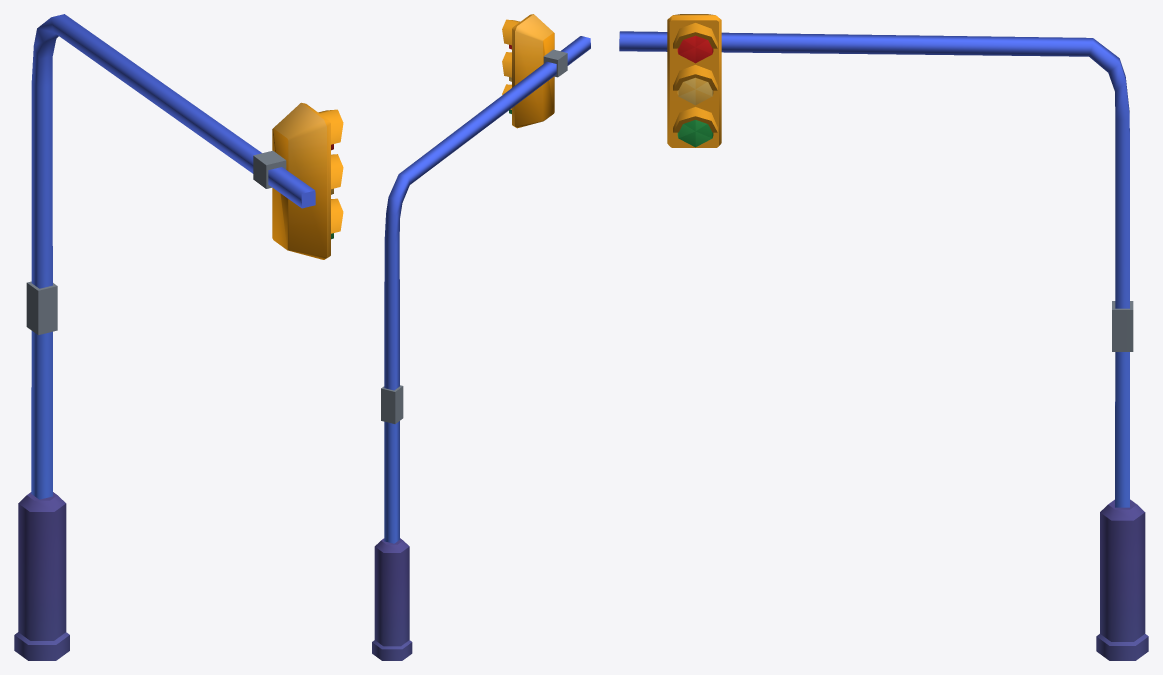
File: Lights_1_B.fbx
3 views of the same model, side by side, from view 1: azimuth 30°, elevation 25°; view 2: azimuth 150°, elevation 25°; view 3: azimuth 270°, elevation 25° (orthographic). The views are drawn at different scales.
Parts seen in each view (by area): view 1: Lights_1_B; view 2: Lights_1_B; view 3: Lights_1_B.
Boxes of the visible parts, x1,y1,x2,y2 form: Lights_1_B: [14, 14, 343, 660]; Lights_1_B: [372, 14, 590, 660]; Lights_1_B: [619, 14, 1148, 660].
Size of the model in its own units: 59.74 by 440 by 322.
